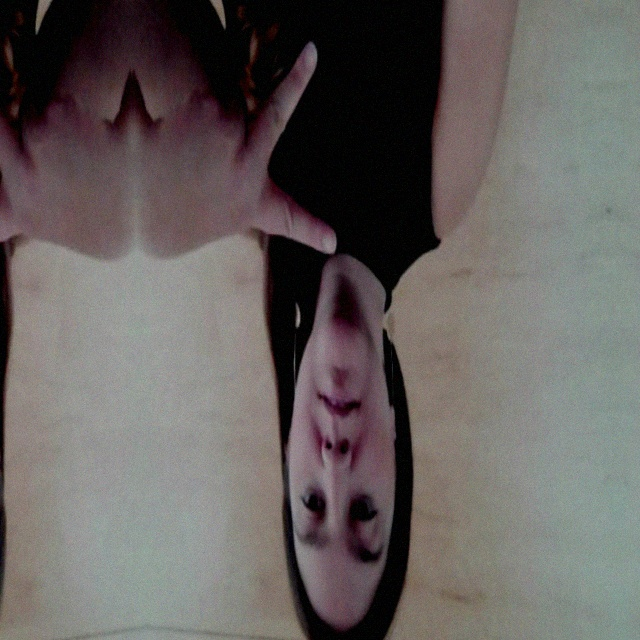Scissors: (0, 0, 138, 312)
